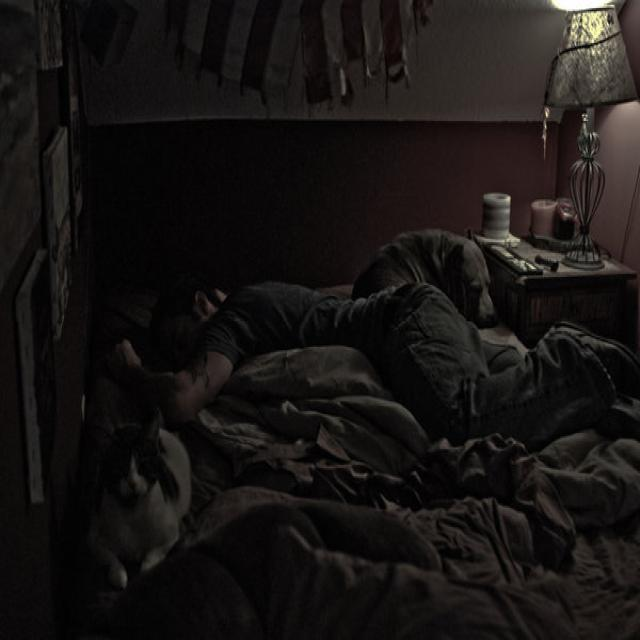Cat: (89, 415, 202, 590)
Cup: (477, 177, 513, 239), (529, 193, 560, 242)
People: (101, 224, 640, 525)
Table: (470, 215, 640, 361)
dog: (351, 224, 512, 331)
